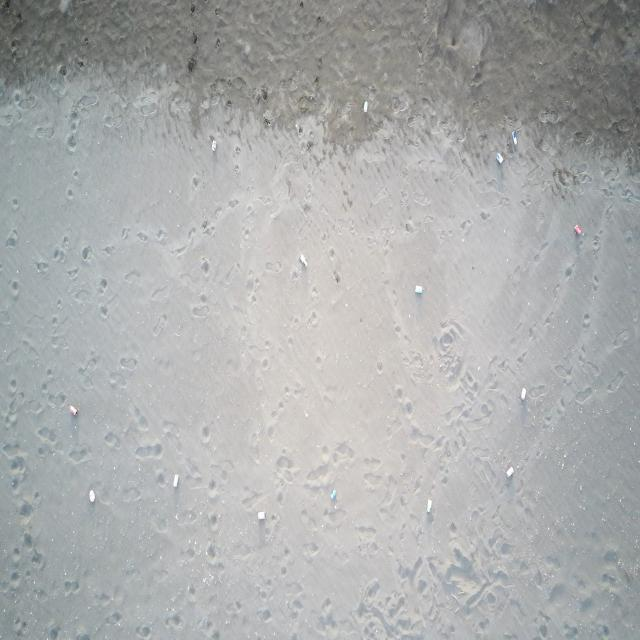Garbage: (299, 253, 307, 267), (573, 224, 582, 235), (88, 488, 95, 502), (172, 473, 179, 487), (495, 151, 503, 163), (511, 129, 516, 147), (68, 404, 76, 415), (520, 387, 526, 400), (329, 488, 335, 500), (426, 499, 431, 512), (415, 284, 422, 293), (211, 139, 216, 151), (506, 466, 512, 476), (258, 511, 264, 520), (363, 100, 367, 111)
